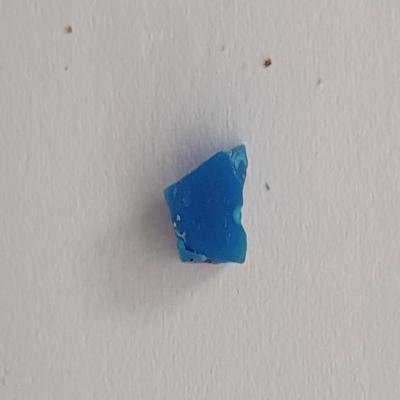plastic: (159, 138, 258, 270)
